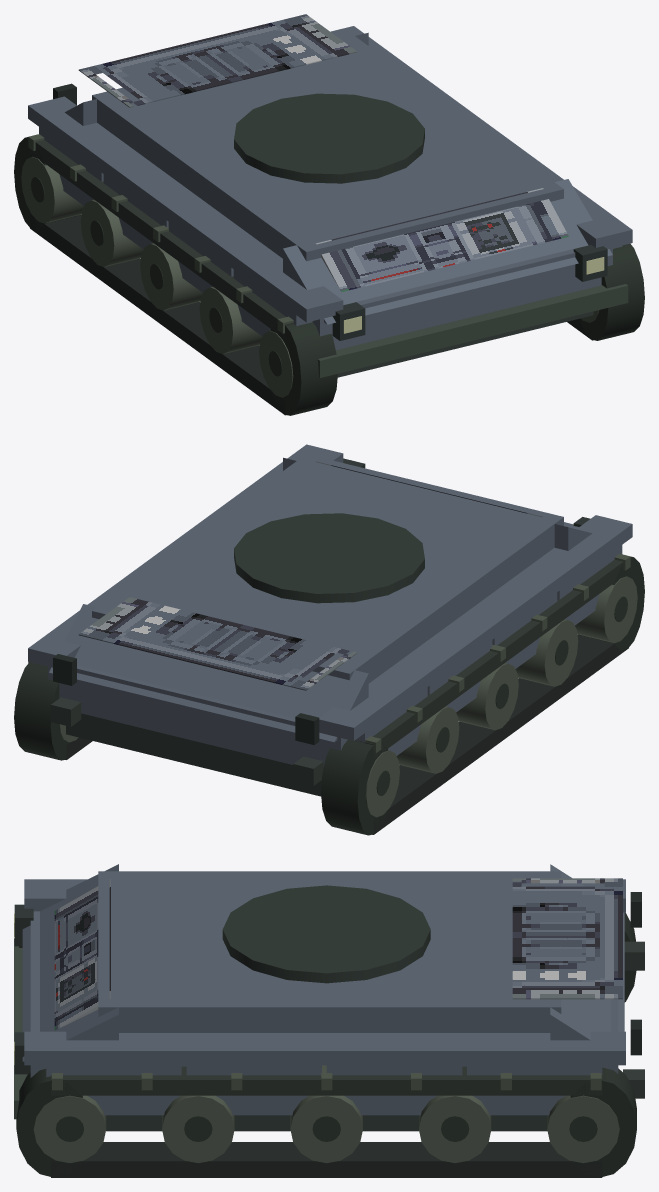
File: CMU3DReduxVehicleTankTWE.glb
3 renders of one model, top to bottom at view 1: azimuth 30°, elevation 25°; view 2: azimuth 150°, elevation 25°; view 3: azimuth 270°, elevation 25°, orthographic. The views are drawn at different scales.
Parts seen in each view (by area): view 1: fighting compartment, track fender (×2), fixed turret race, engine deck, road wheel (×5), glacis finish, lower armored hull, track return (×3), sloped glacis, front towing beam, lower track run, upper track run (+4 smaller); view 2: fighting compartment, track fender (×2), fixed turret race, engine deck, rear engine armor, road wheel (×5), lower armored hull, track return (×3), lower track run, sealed belly, upper track run, side skirt panel (×4) (+3 smaller); view 3: fighting compartment, track fender (×2), road wheel (×5), fixed turret race, lower track run, engine deck, side skirt panel (×4), upper track run, track return (×3), glacis finish, sloped glacis, sealed belly (+6 smaller).
Boxes of the visible parts, x1,y1,x2,y2 form: fighting compartment: (92,32,563,261); track fender (×2): (28,26,632,322); fixed turret race: (234,93,424,183); engine deck: (78,14,357,107); road wheel (×5): (21,156,293,397); glacis finish: (315,188,568,291); lower armored hull: (312,245,612,349); track return (×3): (14,137,644,415); sloped glacis: (283,179,612,324); front towing beam: (317,284,628,377); lower track run: (30,213,286,415); upper track run: (30,140,293,338); fighting compartment: (92,454,563,683); track fender (×2): (28,444,632,740); fixed turret race: (234,513,424,603); engine deck: (78,597,357,690); rear engine armor: (49,604,368,742); road wheel (×5): (365,576,637,817); lower armored hull: (48,522,578,766); track return (×3): (14,556,644,835); lower track run: (372,634,628,834); sealed belly: (66,713,321,796); upper track run: (355,559,623,758); side skirt panel (×4): (355,545,622,755); fighting compartment: (98,871,561,1032); track fender (×2): (24,879,625,1065); road wheel (×5): (33,1095,619,1163); fixed turret race: (222,885,430,983); lower track run: (51,1142,602,1177); engine deck: (512,878,622,999); side skirt panel (×4): (46,1065,602,1115); upper track run: (51,1066,602,1095); track return (×3): (16,912,636,1176); glacis finish: (54,879,110,1030); sloped glacis: (22,864,118,1061); sealed belly: (106,1115,547,1131).
Size of the model in its own units: 2.06 by 0.8287 by 3.
Materials: 17 (2 with a texture image).
